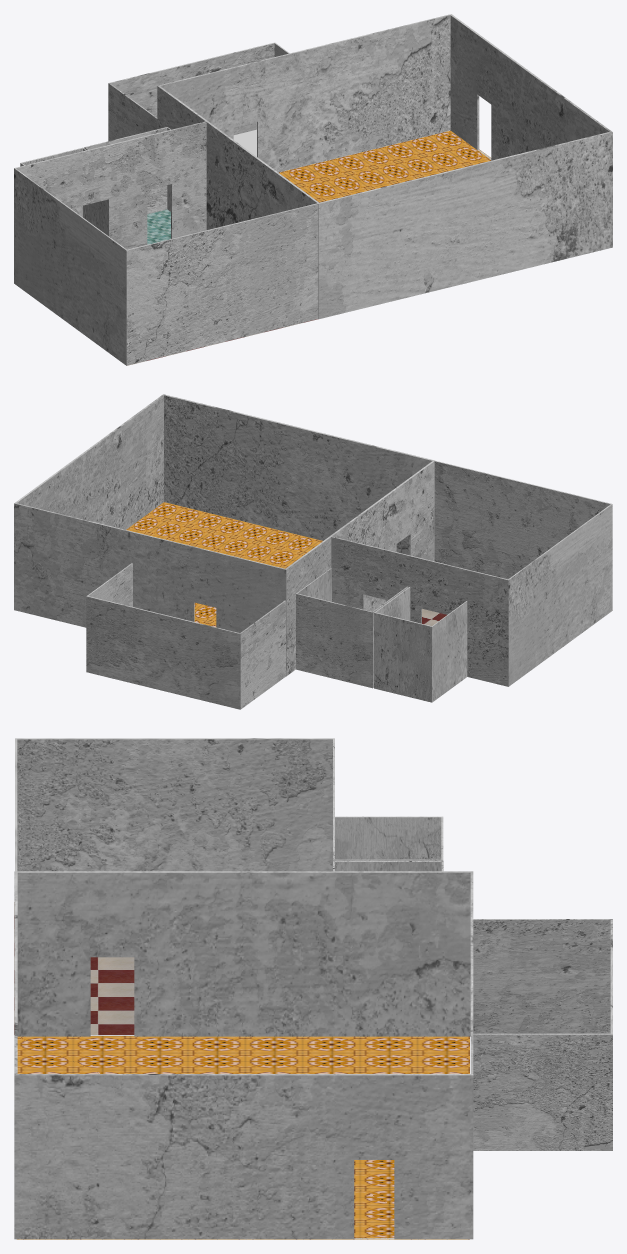
Rendered from wallandground.glb.
3 renders of one model, top to bottom at view 1: azimuth 30°, elevation 25°; view 2: azimuth 150°, elevation 25°; view 3: azimuth 270°, elevation 25°, orthographic. The views are drawn at different scales.
Visible parts, largest first — view 1: Plane.002, Plane.001, san nha phong khach, Plane.006, Plane.005, Plane.003, san nha TOILET; view 2: Plane.002, Plane.001, Plane.006, Plane.003, Plane.005, san nha phong khach; view 3: Plane.002, Plane.001, Plane.006, san nha phong khach, Plane.003, san nha phoing an, Plane.005.
Part boxes in pixels (x1,y1,x2,y2): Plane.002: (157, 14, 612, 318); Plane.001: (14, 121, 318, 365); san nha phong khach: (279, 130, 490, 202); Plane.006: (108, 42, 289, 141); Plane.005: (84, 127, 170, 213); Plane.003: (20, 147, 108, 235); san nha TOILET: (147, 209, 170, 244); Plane.002: (14, 394, 434, 676); Plane.001: (331, 460, 612, 686); Plane.006: (86, 563, 285, 709); Plane.003: (374, 587, 467, 702); Plane.005: (296, 568, 408, 688); san nha phong khach: (126, 502, 322, 626); Plane.002: (14, 871, 473, 1239); Plane.001: (15, 738, 334, 871); Plane.006: (473, 919, 612, 1150); san nha phong khach: (17, 1036, 469, 1239); Plane.003: (335, 816, 443, 860); san nha phoing an: (14, 902, 134, 1034); Plane.005: (335, 861, 443, 871).
Bounding box in the file's own units: 15.52 × 3.52 × 11.64.
8 materials, 8 textured.
